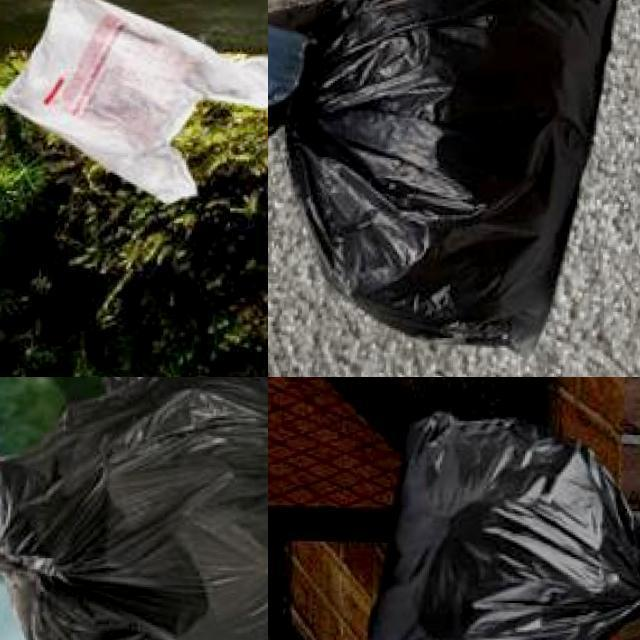waste: (302, 0, 616, 347), (0, 377, 268, 640), (366, 398, 640, 640), (29, 377, 268, 640), (0, 0, 268, 197), (268, 19, 311, 113)
